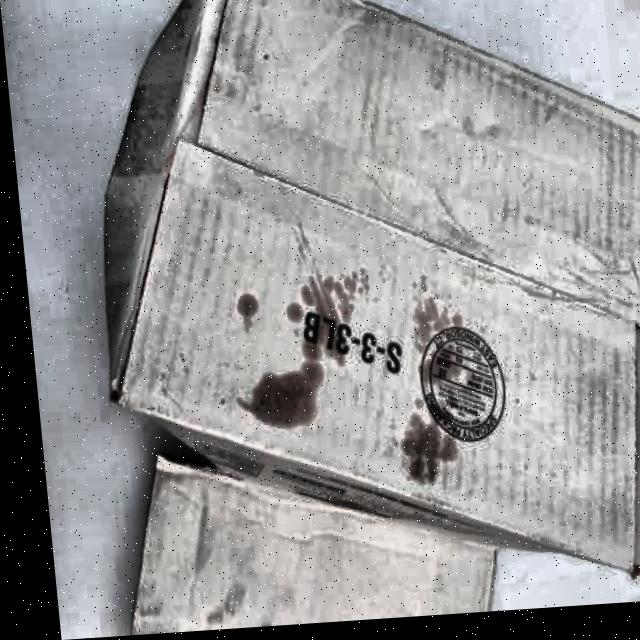cardboard: (70, 0, 640, 617), (113, 430, 504, 635)
